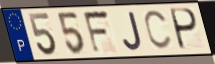5: (26, 11, 58, 57), (56, 10, 87, 57)
C: (143, 9, 174, 52)
F: (81, 9, 112, 56)
J: (121, 10, 144, 52)
P: (169, 7, 200, 52)
